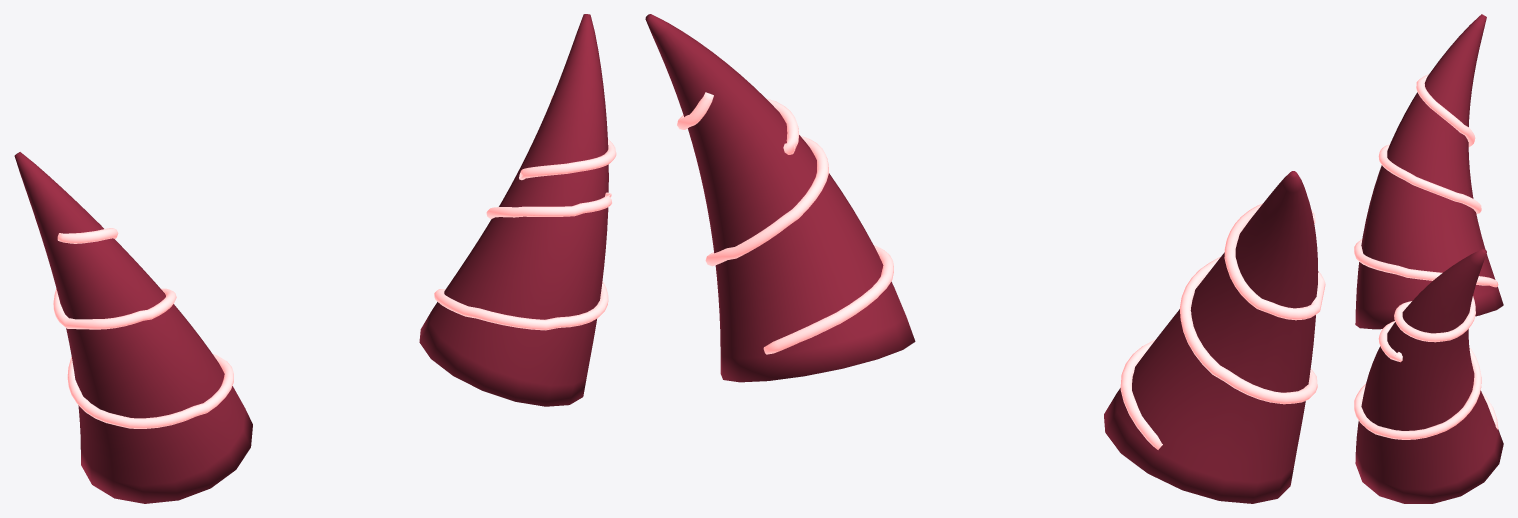
Rendered from acc_horns_female.glb.
The picture shows the model from 3 angles, left to right: view 1: azimuth 30°, elevation 25°; view 2: azimuth 150°, elevation 25°; view 3: azimuth 270°, elevation 25°; orthographic projection. The views are drawn at different scales.
Parts seen in each view (by area): view 1: horns; view 2: horns; view 3: horns.
Boxes of the visible parts, x1,y1,x2,y2 form: horns: [14, 14, 616, 503]; horns: [645, 14, 1325, 503]; horns: [1354, 14, 1503, 503].
Bounding box in the file's own units: 0.1488 × 0.0801 × 0.0395.
